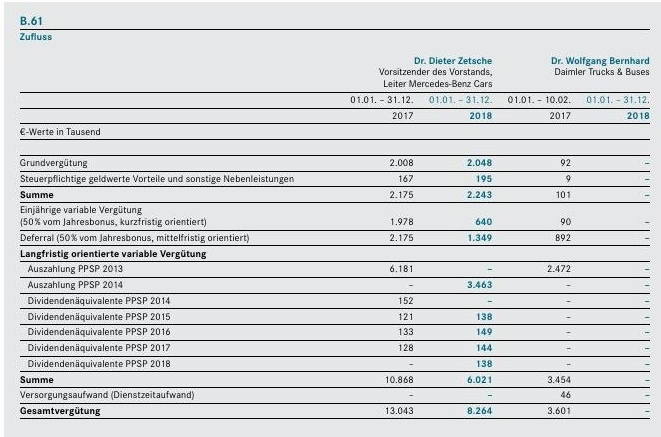table: (0, 0, 661, 437)
